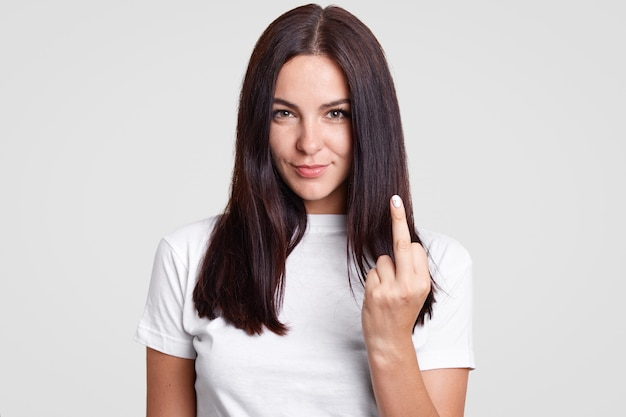insulting_gesture: (361, 191, 434, 340)
